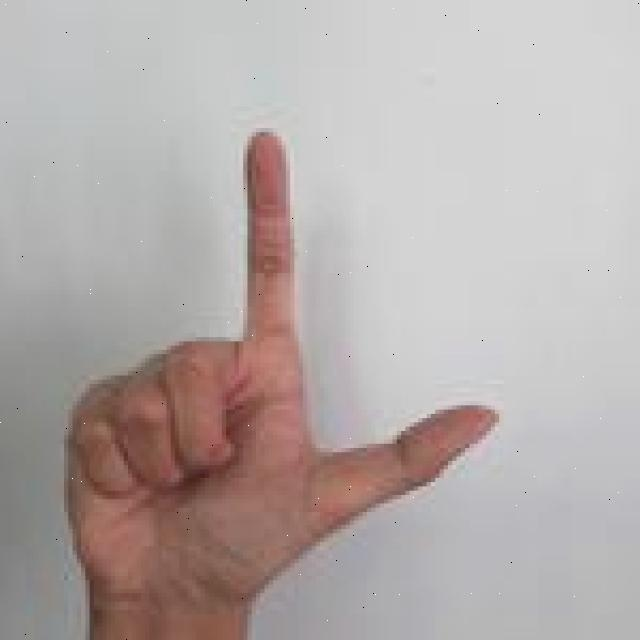L: (60, 123, 501, 640)
